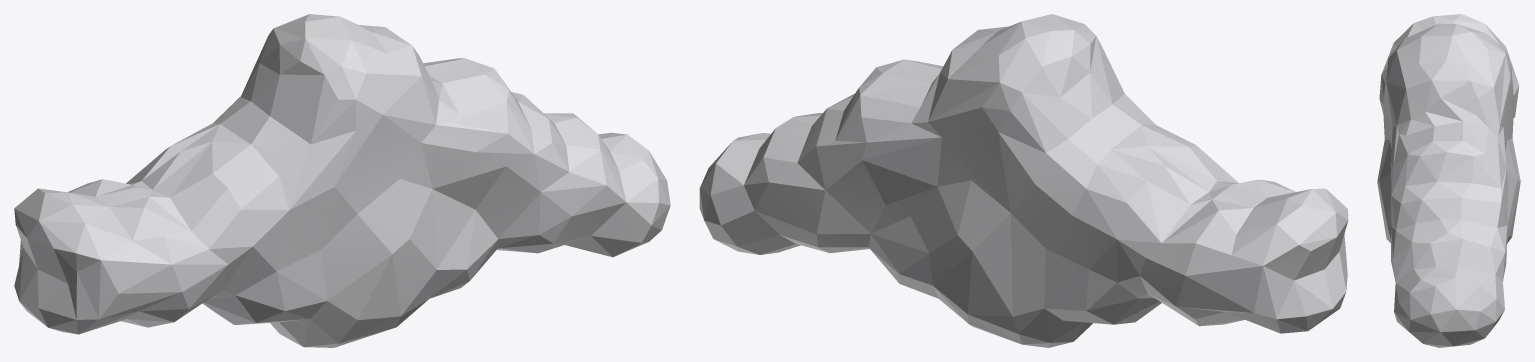
The model's file is big_cloud_5.fbx.
The picture shows the model from 3 angles, left to right: view 1: azimuth 30°, elevation 25°; view 2: azimuth 150°, elevation 25°; view 3: azimuth 270°, elevation 25°; orthographic projection. The views are drawn at different scales.
Visible parts, largest first — view 1: cloud_45; view 2: cloud_45; view 3: cloud_45.
Part boxes in pixels (bbox=[...]): cloud_45: bbox=[14, 14, 670, 347]; cloud_45: bbox=[699, 14, 1348, 347]; cloud_45: bbox=[1377, 14, 1520, 347].
Size of the model in its own units: 1124 by 535 by 302.
